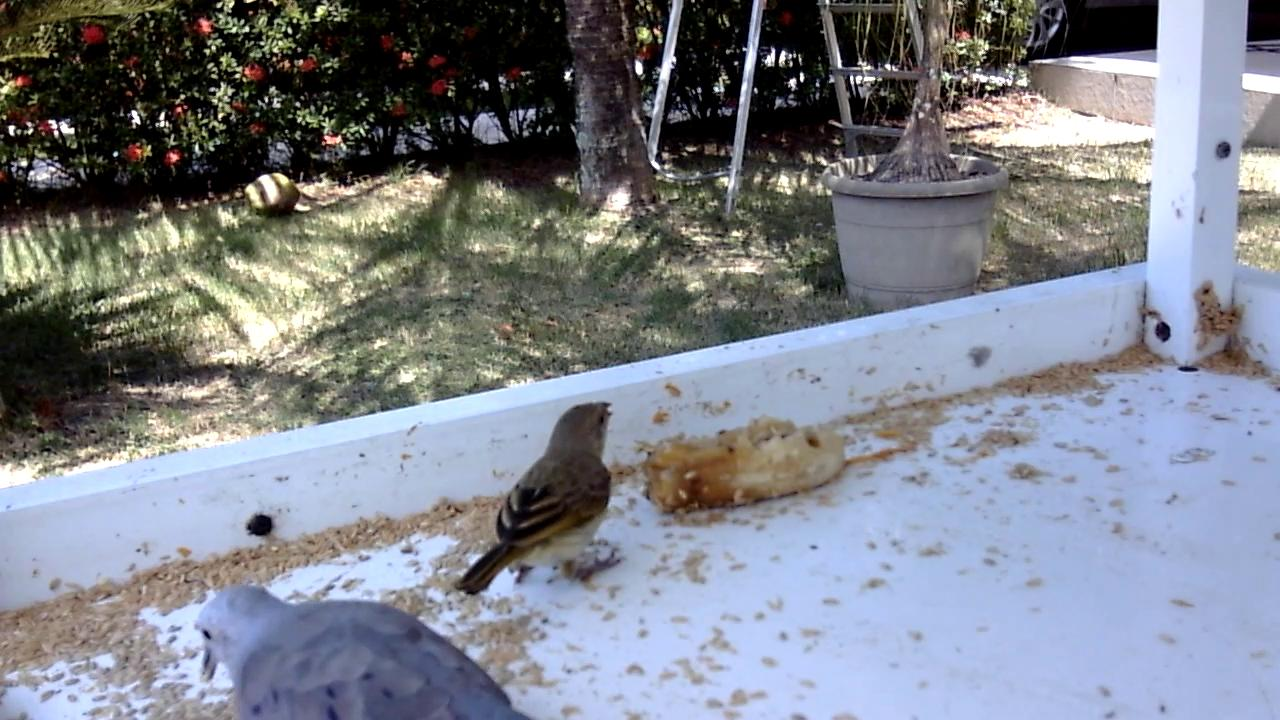canario_do_amazonas: (453, 394, 631, 600)
rolinha: (189, 580, 537, 720)
